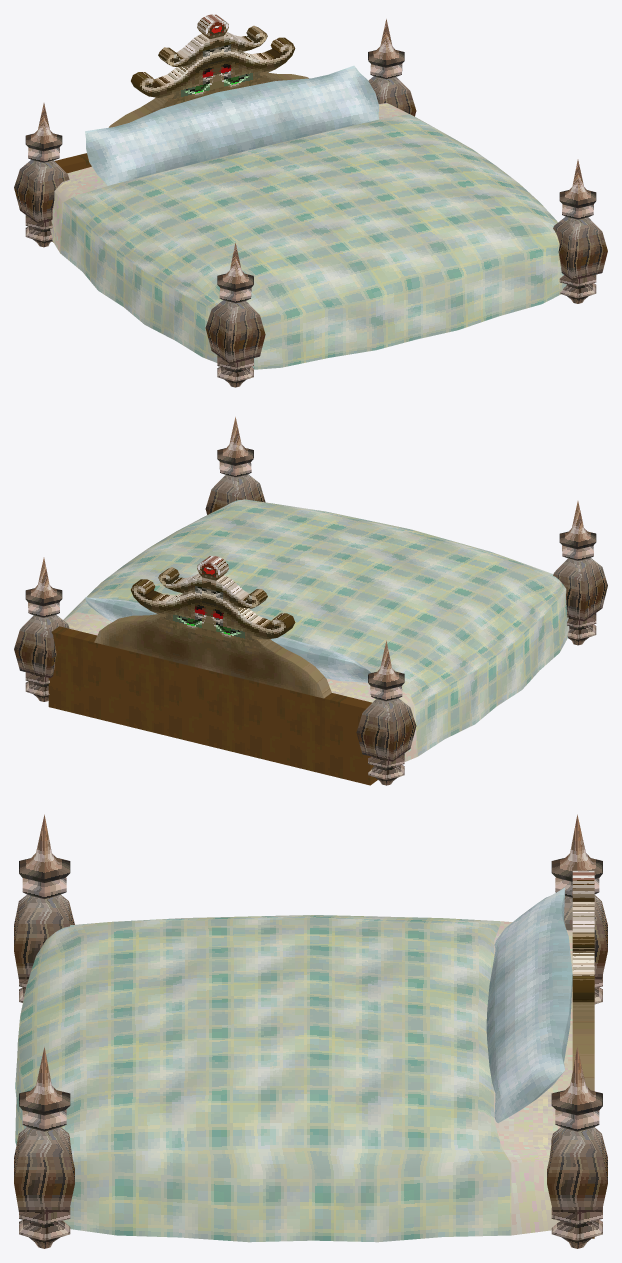
File: bed28-1.glb
3 renders of one model, top to bottom at view 1: azimuth 30°, elevation 25°; view 2: azimuth 150°, elevation 25°; view 3: azimuth 270°, elevation 25°, orthographic. The views are drawn at different scales.
Parts seen in each view (by area): view 1: bed28_1; view 2: bed28_1; view 3: bed28_1.
Boxes of the visible parts, x1,y1,x2,y2 form: bed28_1: (14, 14, 607, 387); bed28_1: (14, 417, 607, 785); bed28_1: (14, 814, 607, 1248).
Bounding box in the file's own units: 500 × 231 × 486.
Materials: 7 (7 with a texture image).
